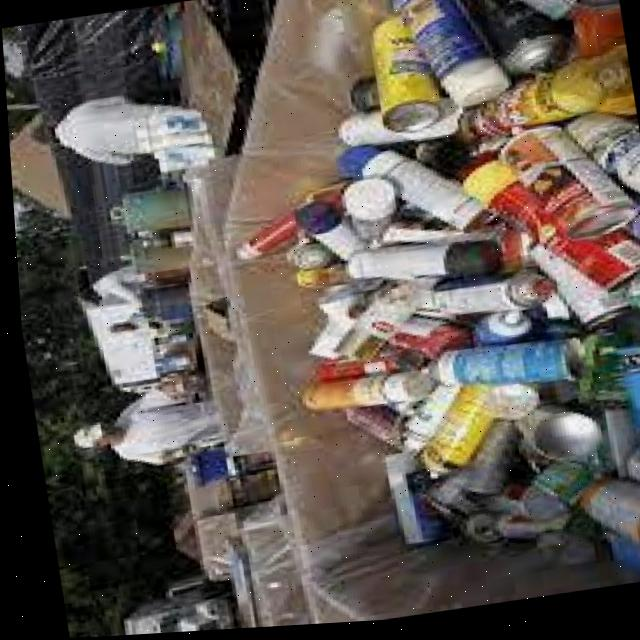Garbage: (236, 0, 640, 578)
